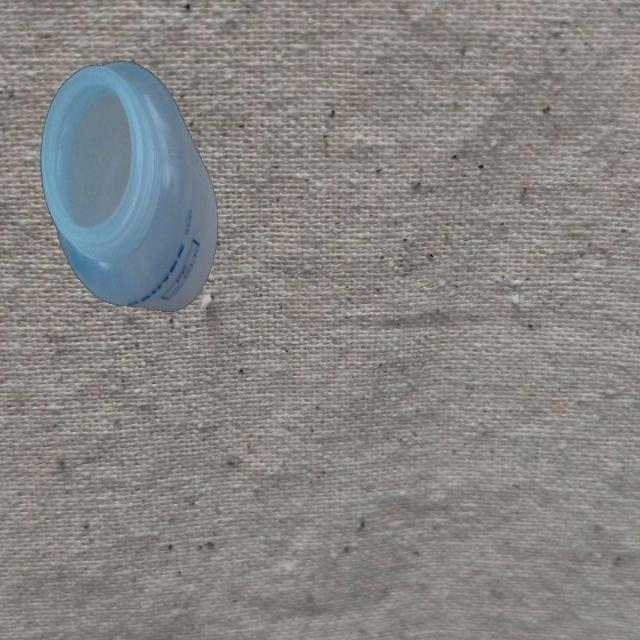bottle: (36, 55, 220, 317)
